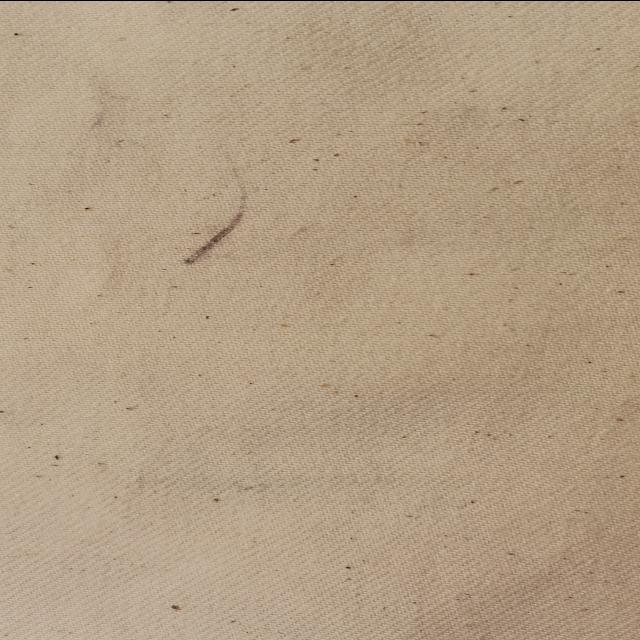taaaches: (170, 154, 260, 274)
